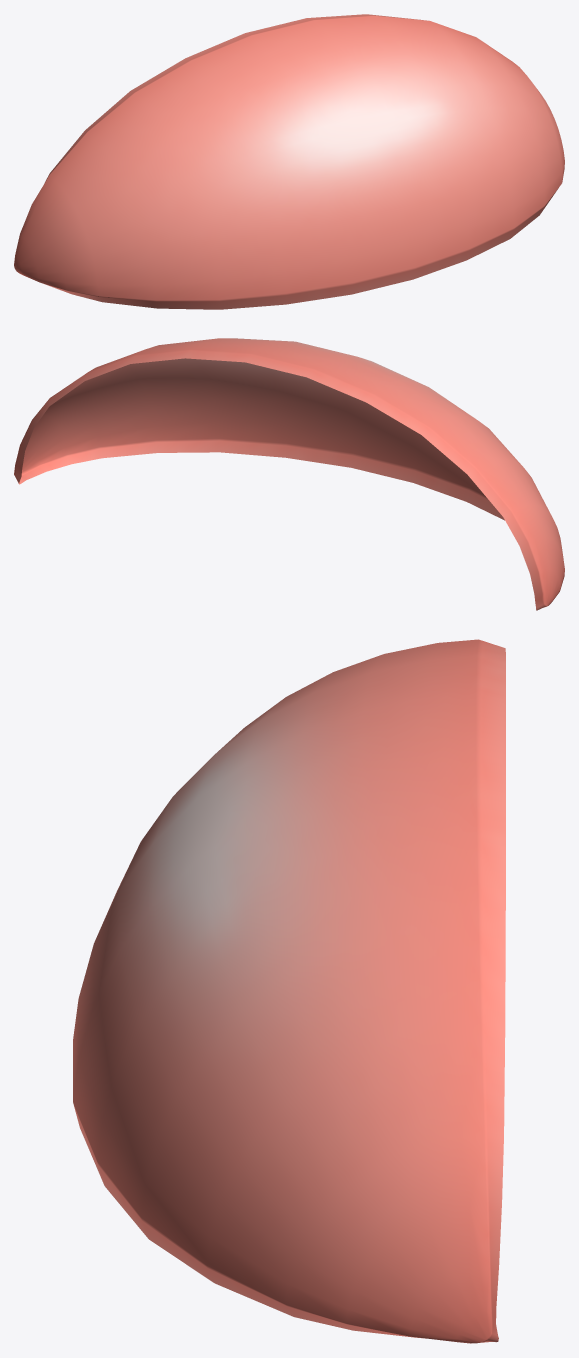
File: AnimalCell-Nucleolus.fbx
3 renders of one model, top to bottom at view 1: azimuth 30°, elevation 25°; view 2: azimuth 150°, elevation 25°; view 3: azimuth 270°, elevation 25°, orthographic. The views are drawn at different scales.
Visible parts, largest first — view 1: polySurface386; view 2: polySurface386; view 3: polySurface386.
Boxes of the visible parts, x1,y1,x2,y2 form: polySurface386: [14, 14, 564, 309]; polySurface386: [14, 338, 564, 610]; polySurface386: [73, 639, 505, 1343].
Bounding box in the file's own units: 2.92 × 0.9802 × 1.03.
1 material, 1 textured.
